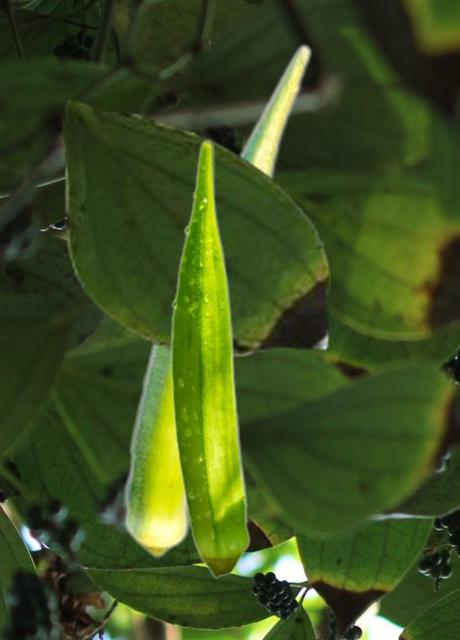okra: (123, 42, 312, 558), (170, 139, 250, 578)
